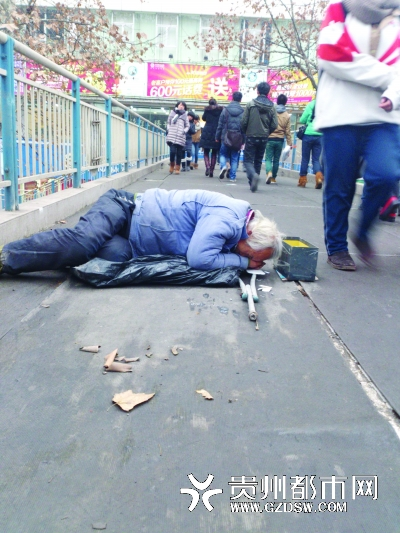fall: (5, 175, 277, 297)
